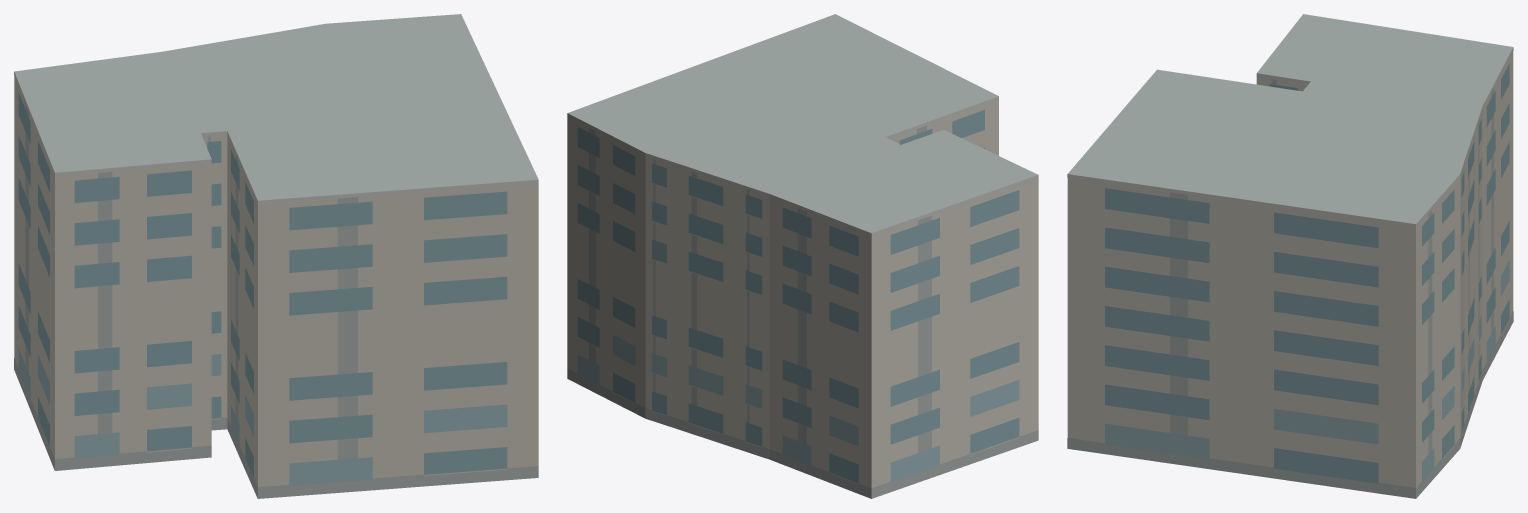
File: survey-upis-33010012.glb
The picture shows the model from 3 angles, left to right: view 1: azimuth 30°, elevation 25°; view 2: azimuth 150°, elevation 25°; view 3: azimuth 270°, elevation 25°; orthographic projection. The views are drawn at different scales.
Visible parts, largest first — view 1: survey-upis-33010012.tmp; view 2: survey-upis-33010012.tmp; view 3: survey-upis-33010012.tmp.
Part boxes in pixels (bbox=[...]): survey-upis-33010012.tmp: bbox=[14, 14, 538, 498]; survey-upis-33010012.tmp: bbox=[567, 14, 1038, 498]; survey-upis-33010012.tmp: bbox=[1067, 14, 1513, 498].
Size of the model in its own units: 31.19 by 19 by 27.96.
